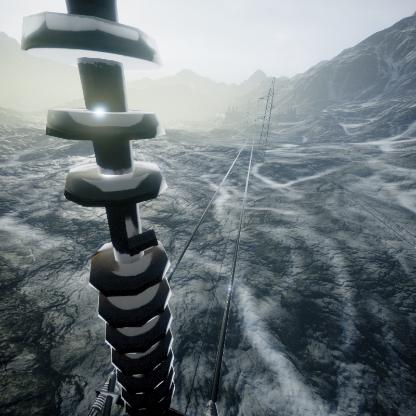insulator: (20, 1, 177, 407)
tower: (251, 76, 284, 158)
